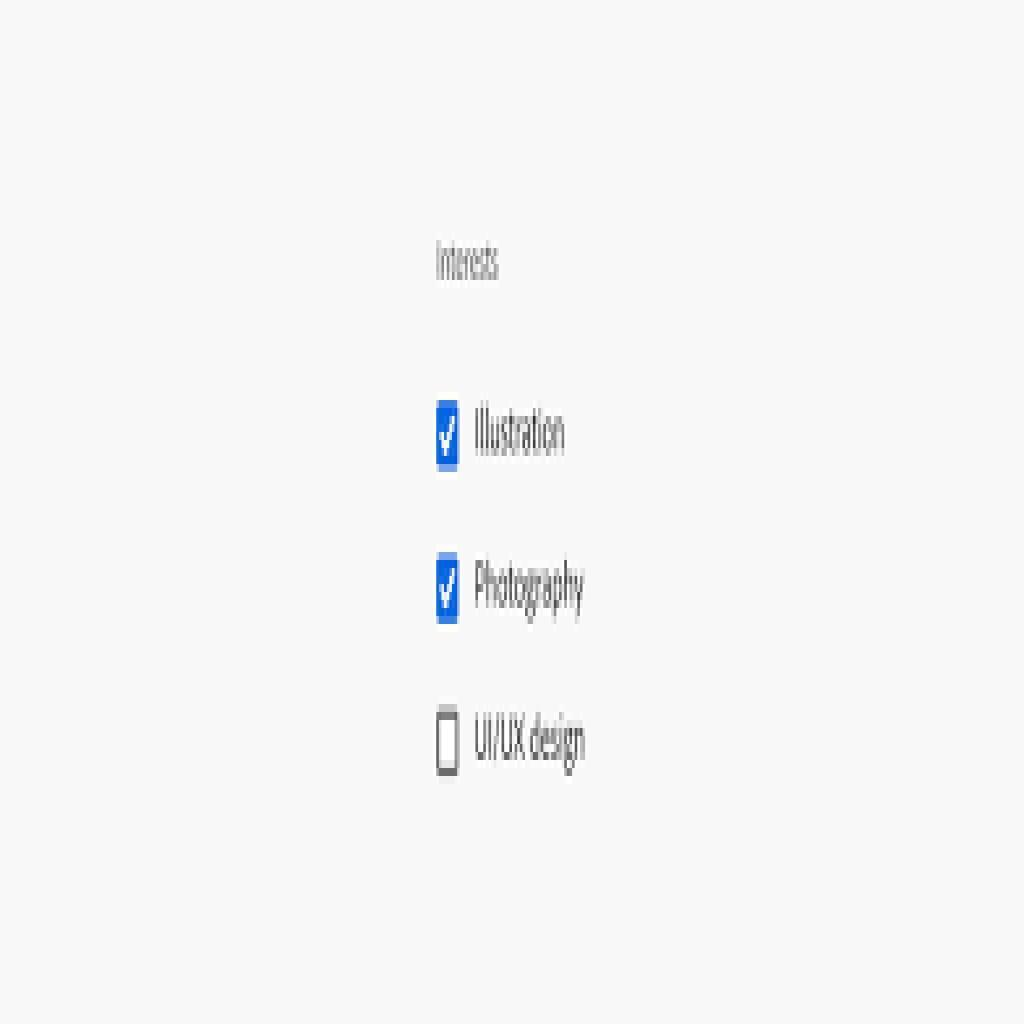checkbox: (436, 401, 463, 472), (438, 551, 463, 626), (437, 705, 462, 775)
label: (472, 554, 589, 625), (472, 707, 592, 776), (471, 398, 572, 464)
